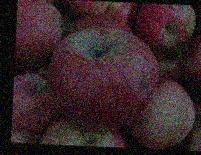rotten apple: (50, 28, 163, 126), (12, 72, 60, 131), (40, 115, 128, 146)
